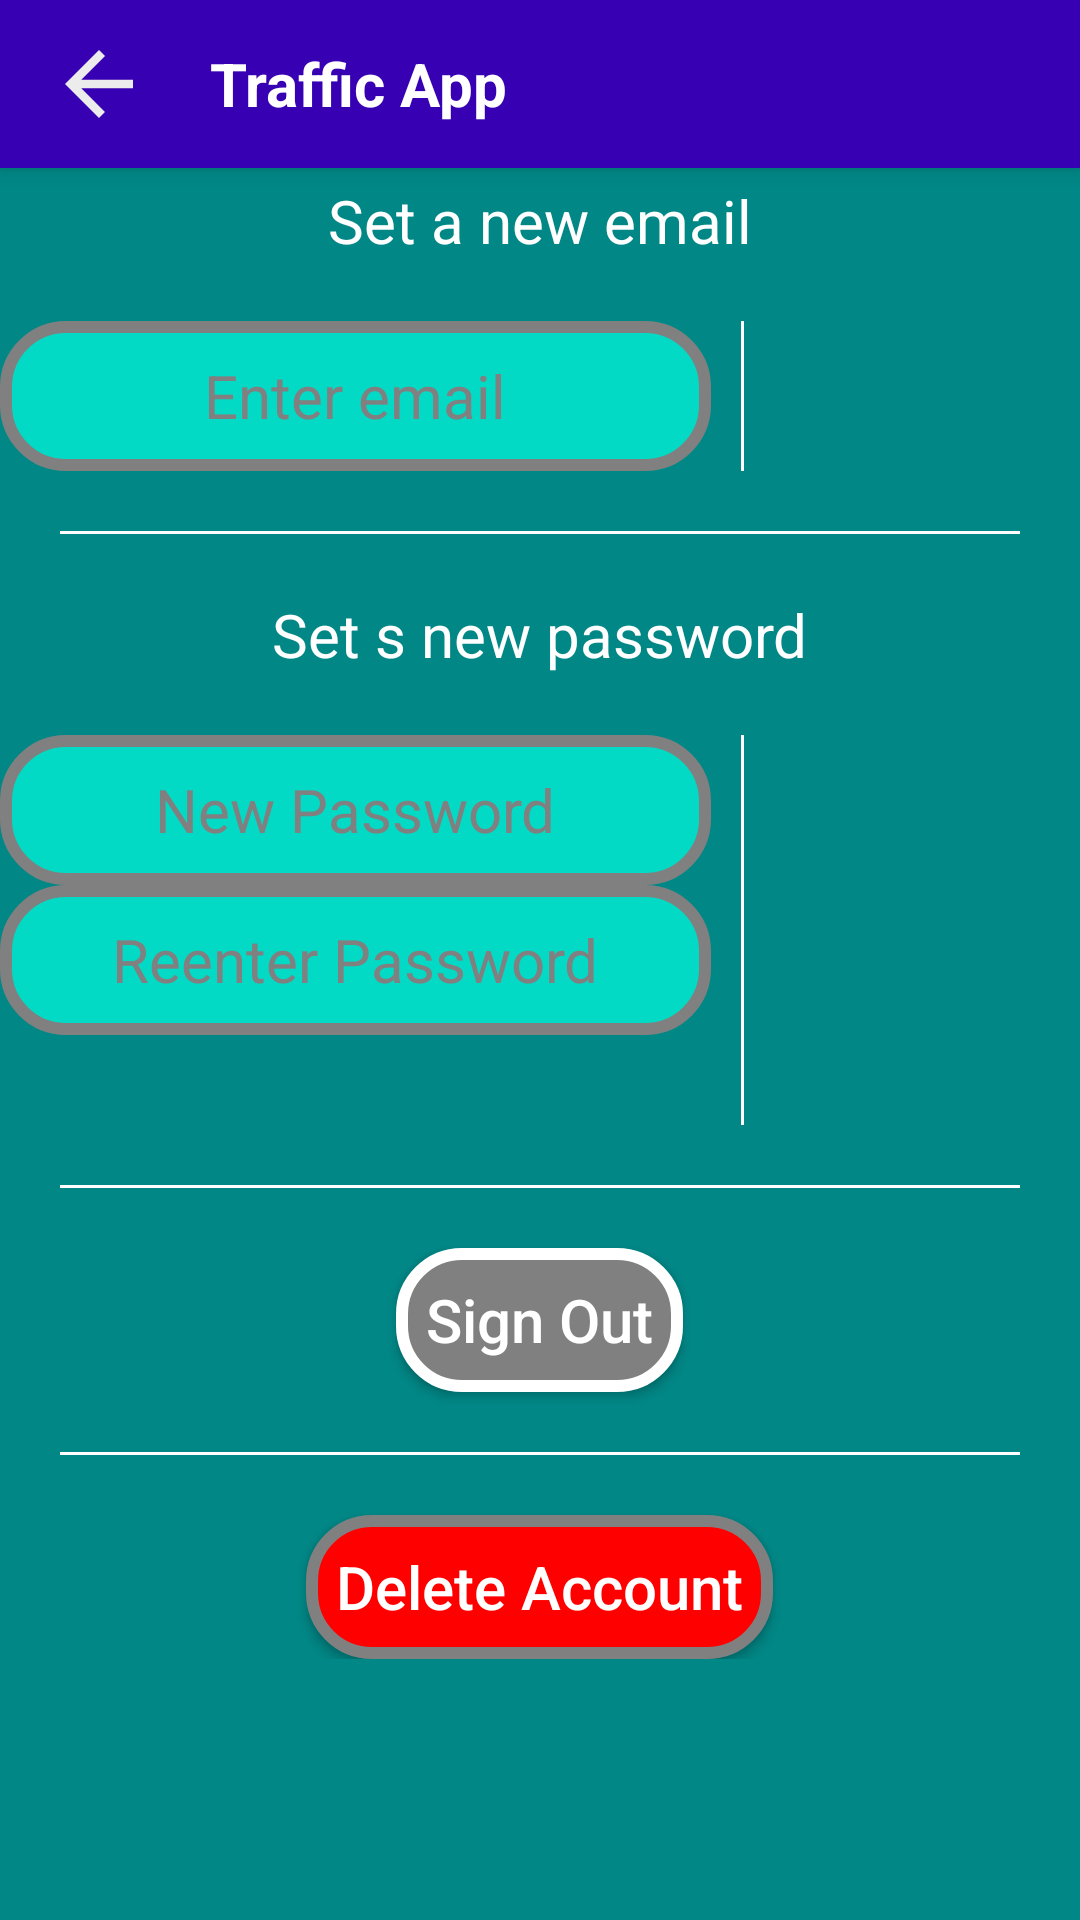

Icon bounding boxes for this 1080px x 1920px phone screenshot, format (x1, y1, x2, y2):
arrow back: (65, 50, 133, 118)
